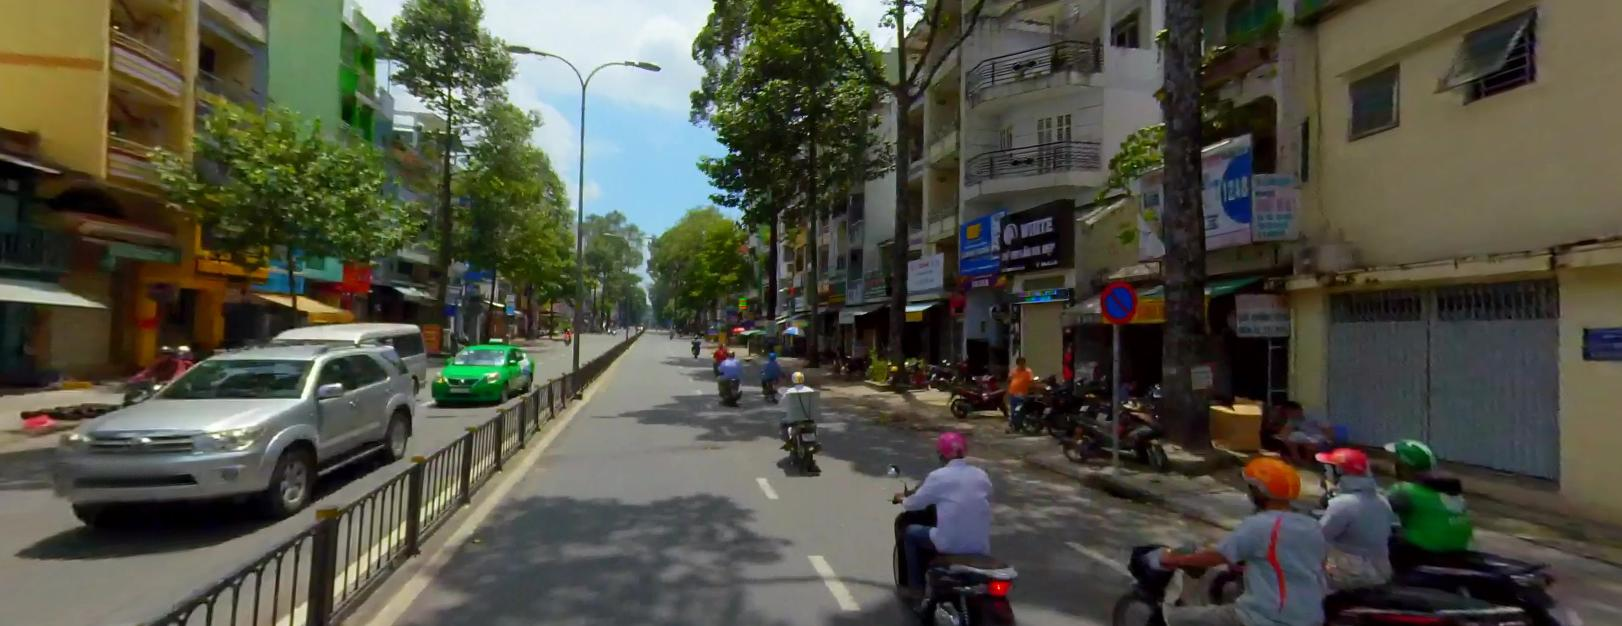Cam dung va do: (1100, 280, 1137, 323)
